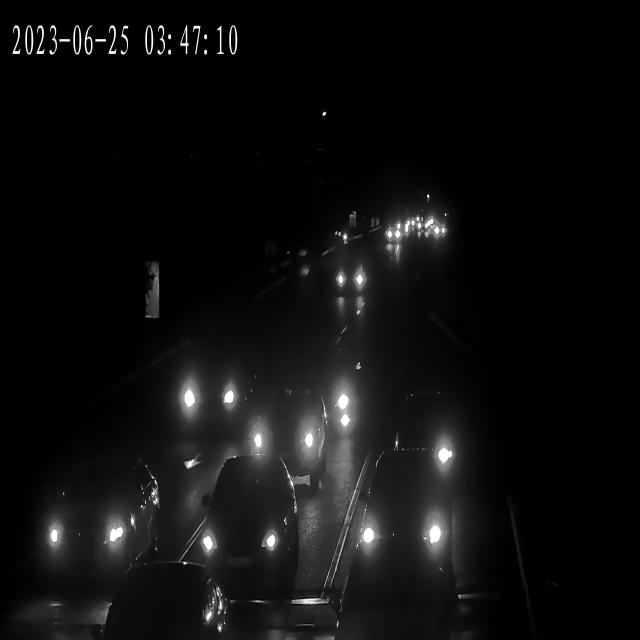Car: (32, 454, 155, 588), (354, 469, 455, 589), (194, 474, 300, 584), (90, 568, 228, 640), (162, 344, 252, 436), (387, 389, 465, 490), (241, 394, 326, 478), (301, 338, 366, 444), (335, 262, 371, 298), (424, 218, 452, 242), (399, 210, 421, 234), (382, 223, 404, 246)
